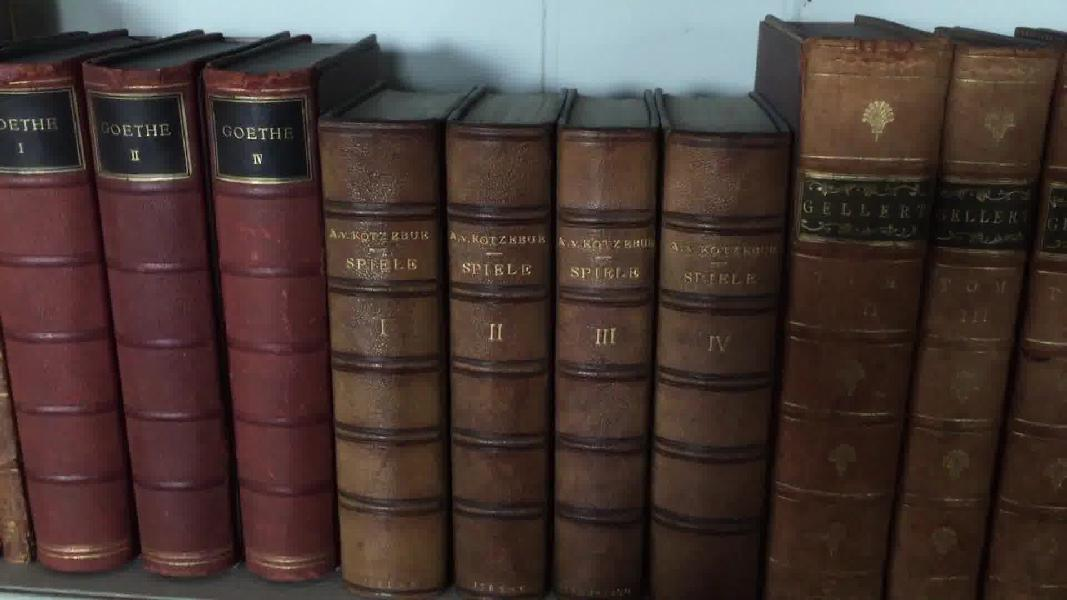Aa6-11_13: (4, 58, 336, 581)
Aa6-14_17: (320, 111, 790, 600)
